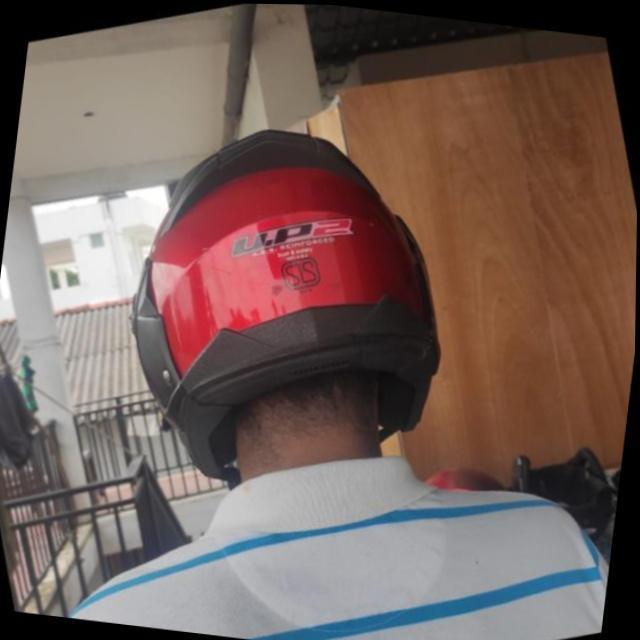with_helmet: (128, 129, 438, 462)
